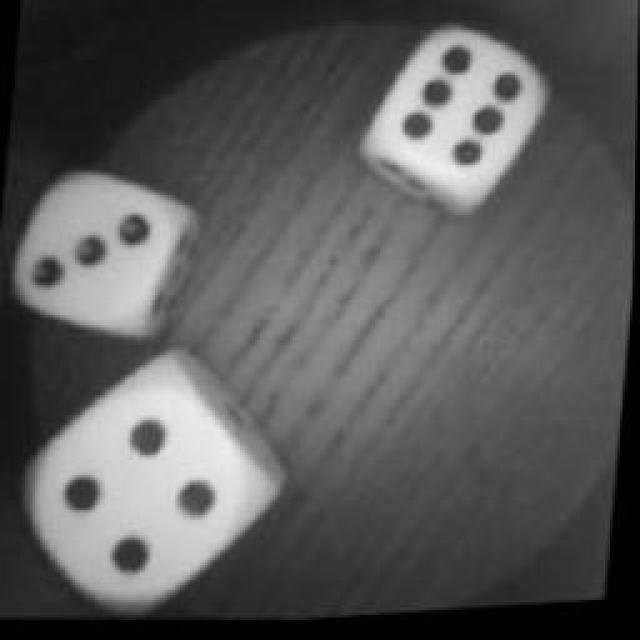dice_3: (10, 160, 208, 358)
dice_4: (15, 338, 295, 632)
dice_6: (355, 8, 560, 238)
